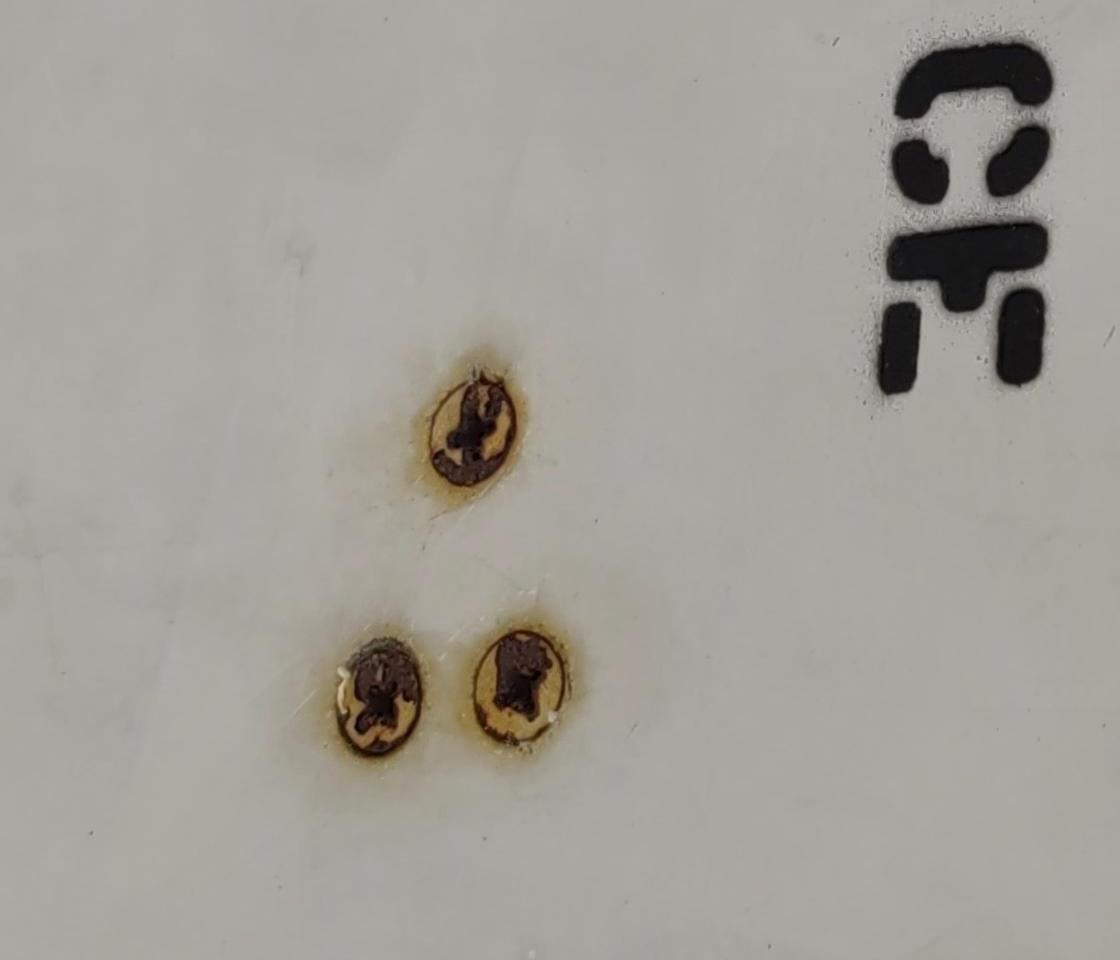rivet_damage: (411, 363, 525, 490), (469, 622, 576, 755), (325, 632, 428, 759)
